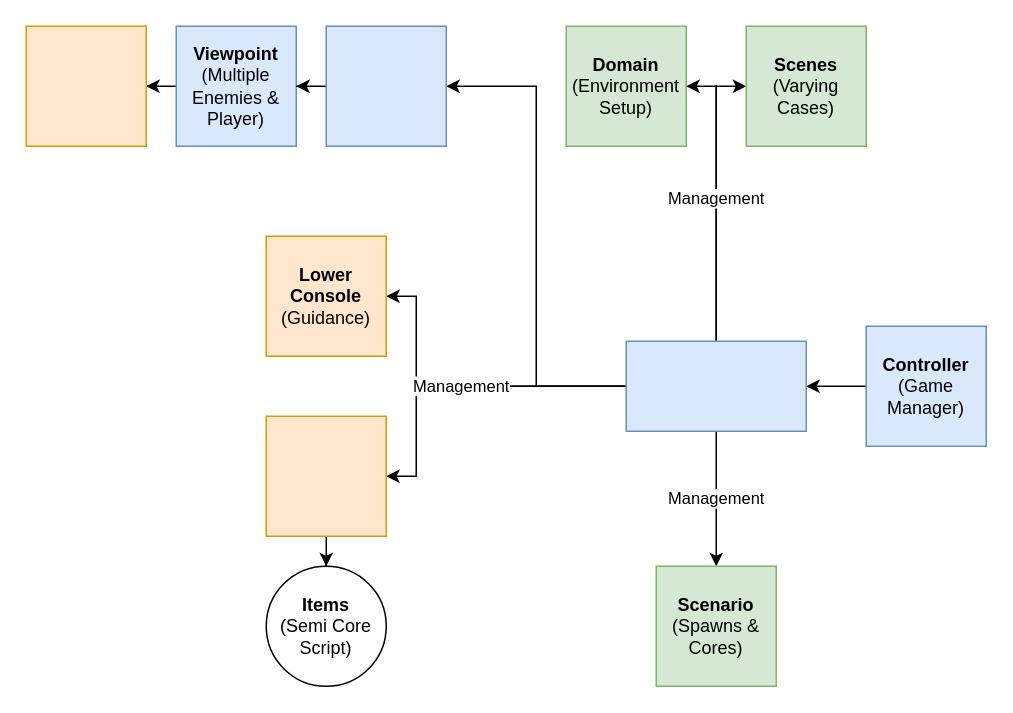
This 1013x713 diagram has some shape labels left out. The shapes that lost their labels are listed below. From the top down, each one's centre as x and y in pixels, then its label:
At point 85,85: "Medium Console (Properties & Calculations)".
At point 385,85: "Phase (Four Game States)".
At point 715,385: "MasterController ( Main Script)".
At point 325,475: "Higher Console (Settings)".
